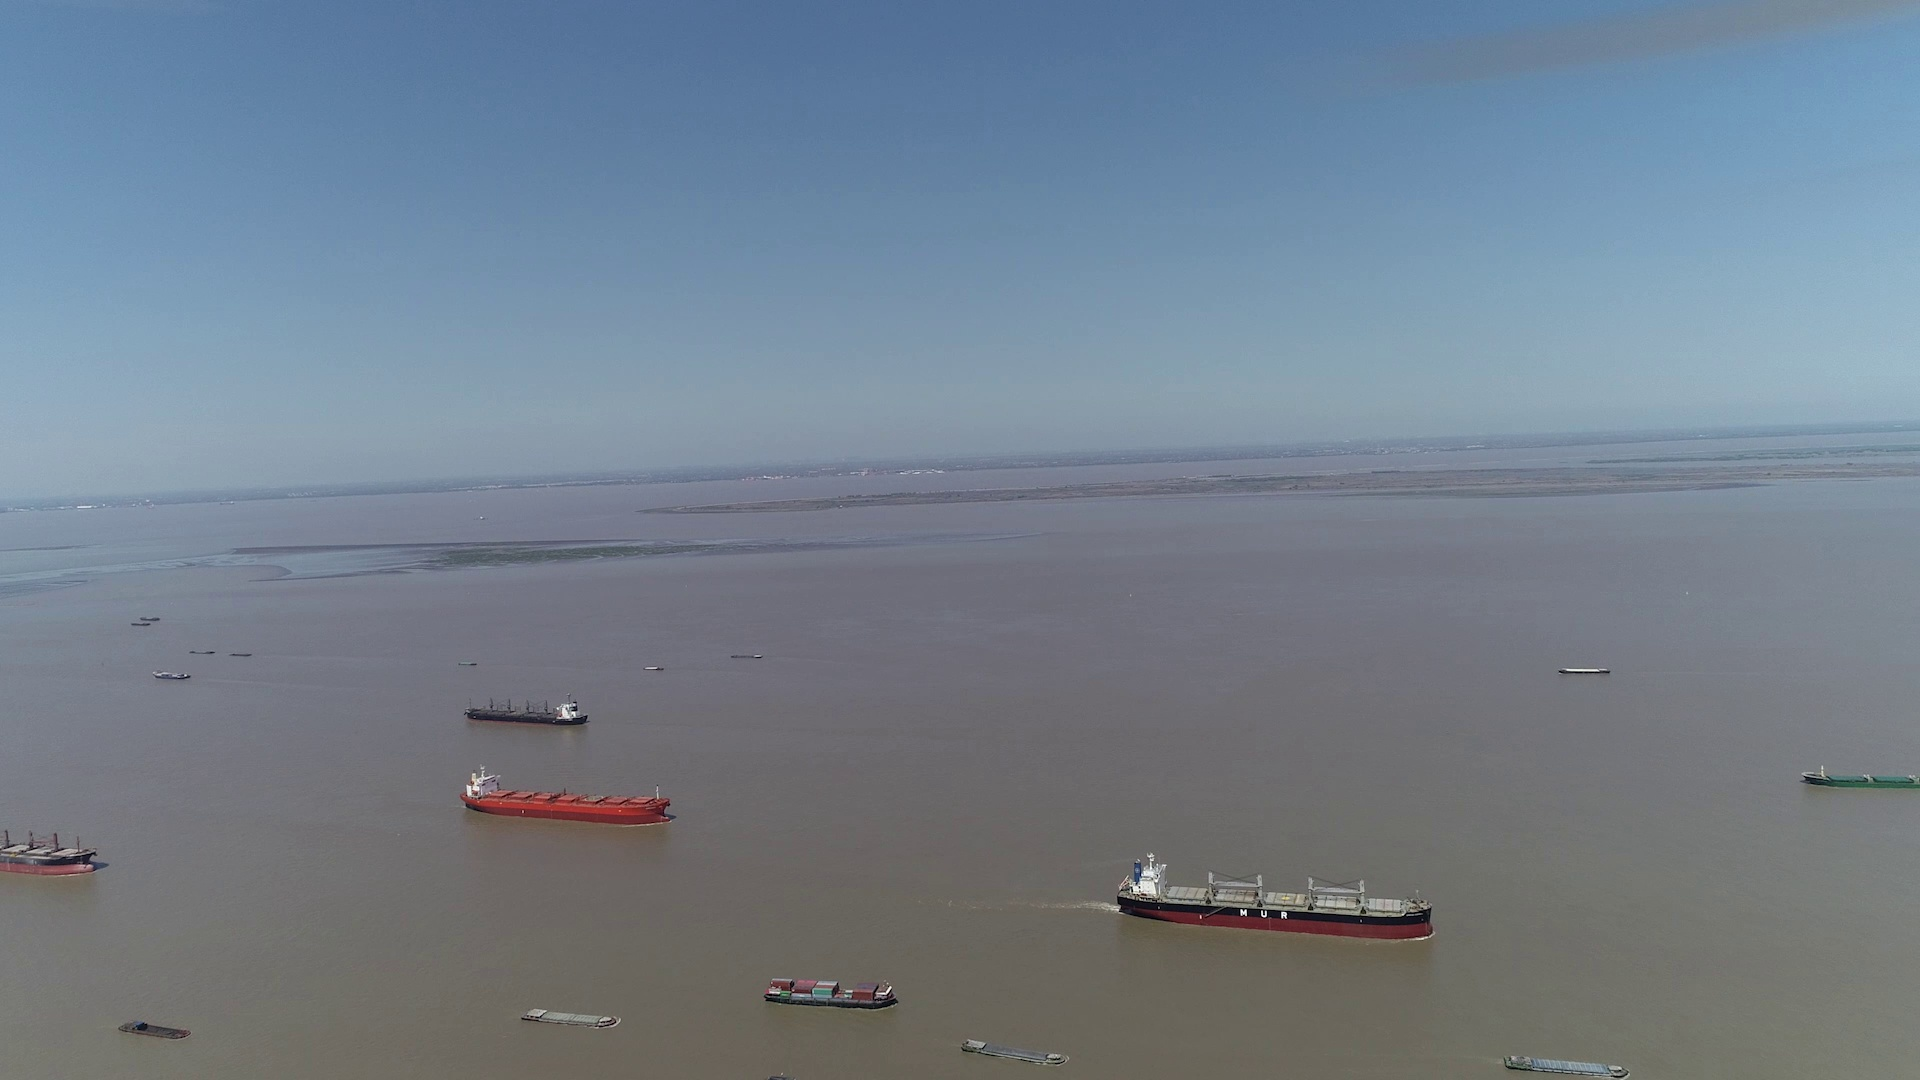ship: (1114, 852, 1433, 942), (459, 762, 669, 823), (1, 815, 100, 877), (764, 977, 897, 1007), (465, 694, 589, 724), (1502, 1052, 1629, 1077), (963, 1036, 1068, 1065), (1803, 765, 1917, 789), (520, 1007, 618, 1029), (117, 1021, 193, 1040), (152, 669, 191, 680), (1560, 667, 1609, 675)
